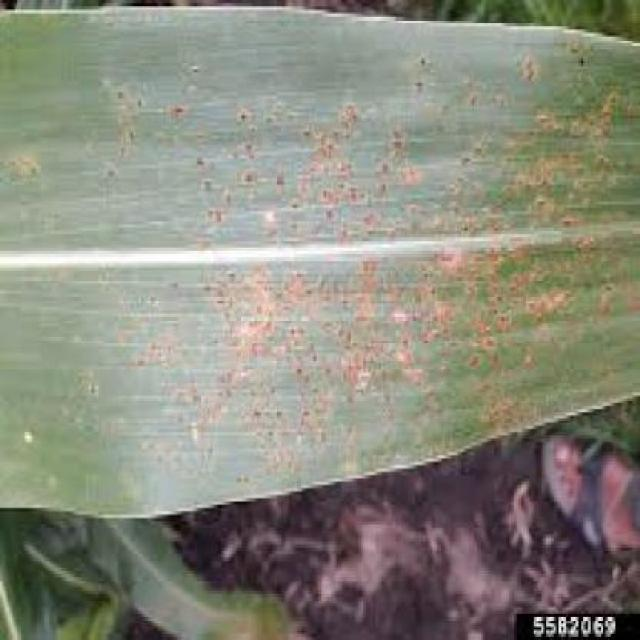Corn_Rust: (17, 0, 640, 498)
